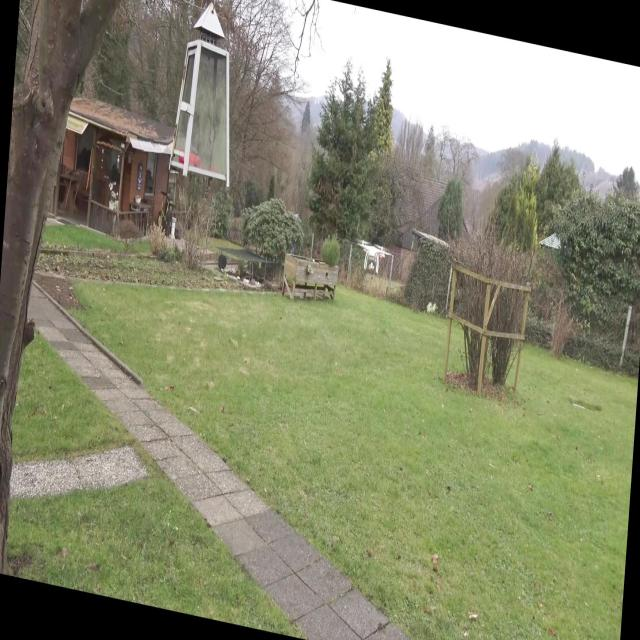drone: (357, 232, 390, 282)
